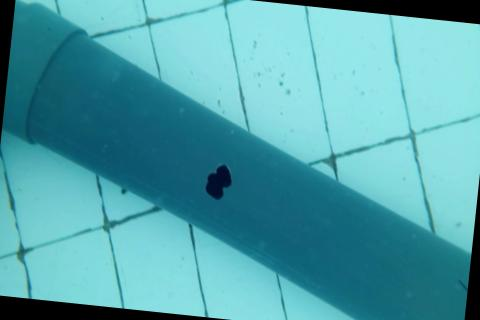kebocoran: (202, 159, 234, 202)
keretakan: (453, 277, 469, 294)
